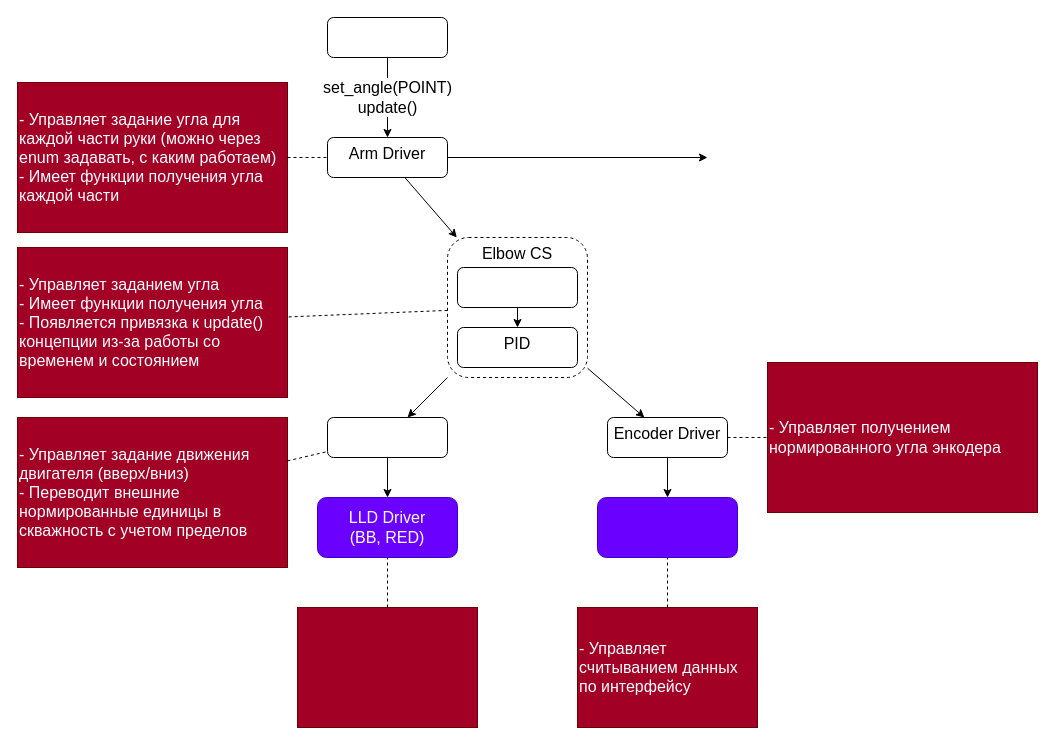
This 1055x745 diagram has some shape labels left out. Each missing label, with the centre of its shape:
- Управляет настройкой под драйвер и заданием скважности: [387,667]
Elbow Driver: [387,437]
LLD Abs Encoder: [667,527]
Main Loop: [387,37]
Tracking CS: [517,287]
